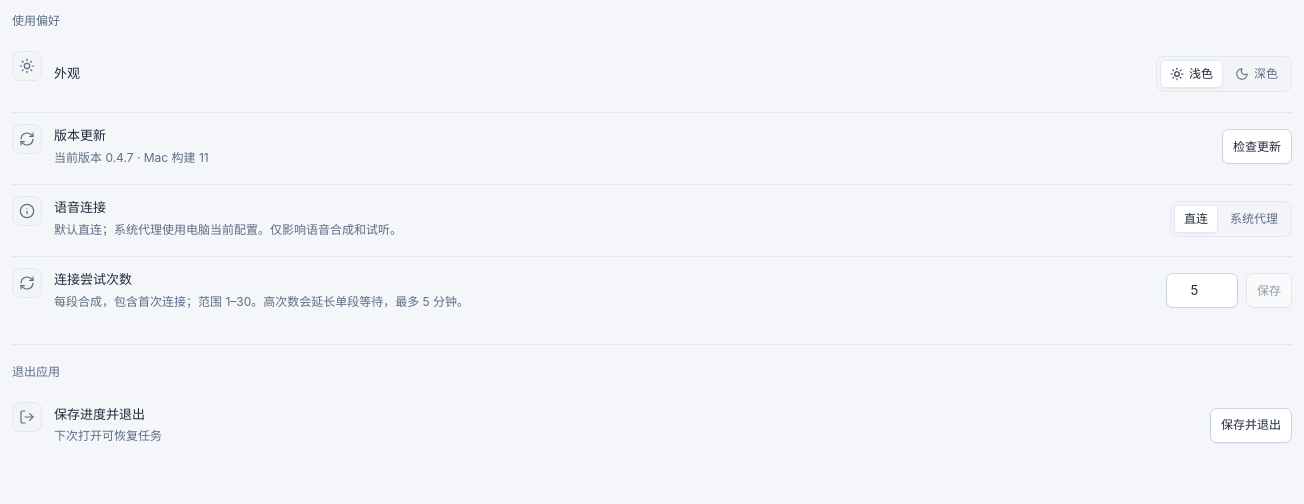
Test: reports a successful check without replacing the shipped version
What coordinates should you click on to do the following:
click the button "检查更新"
I would click on:
 (1257, 146)
Its box is left=1222, top=129, right=1292, bottom=164.
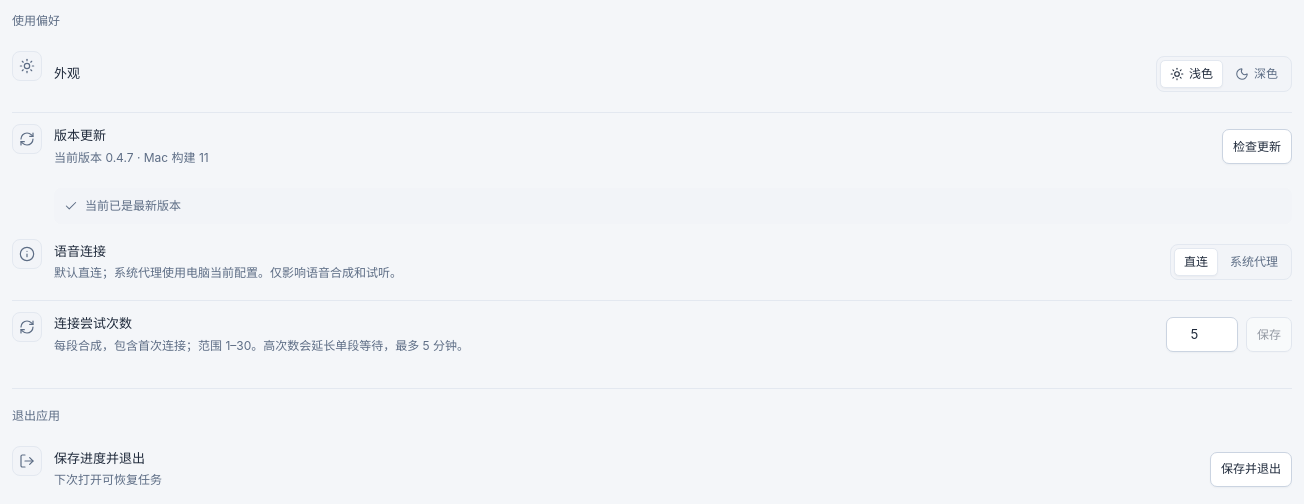
Expected: the text "当前版本 0.4.7 · Mac 构建 11" is shown, left=54, top=150, right=209, bottom=165
Expected: the message reads "当前已是最新版本", left=85, top=198, right=181, bottom=213
